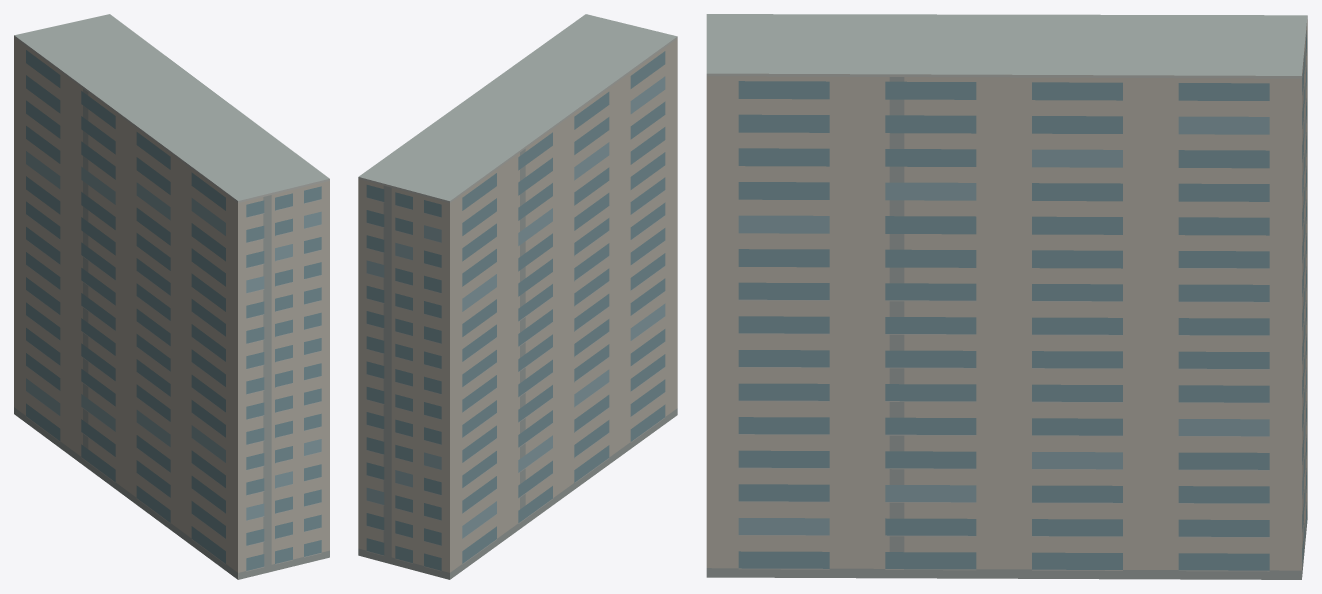
File: residential-e218dadf-62b1-47b0-91b2-3f9c4fda0257.glb
3 renders of one model, left to right at view 1: azimuth 30°, elevation 25°; view 2: azimuth 150°, elevation 25°; view 3: azimuth 270°, elevation 25°, orthographic. The views are drawn at different scales.
Parts seen in each view (by area): view 1: residential-e218dadf-62b1-47b0-91b2-3f9c4fda0257.tmp; view 2: residential-e218dadf-62b1-47b0-91b2-3f9c4fda0257.tmp; view 3: residential-e218dadf-62b1-47b0-91b2-3f9c4fda0257.tmp.
Boxes of the visible parts, x1,y1,x2,y2 form: residential-e218dadf-62b1-47b0-91b2-3f9c4fda0257.tmp: [14, 14, 329, 579]; residential-e218dadf-62b1-47b0-91b2-3f9c4fda0257.tmp: [358, 14, 677, 579]; residential-e218dadf-62b1-47b0-91b2-3f9c4fda0257.tmp: [706, 14, 1307, 579].
Size of the model in its own units: 12.08 by 45.75 by 49.47.
